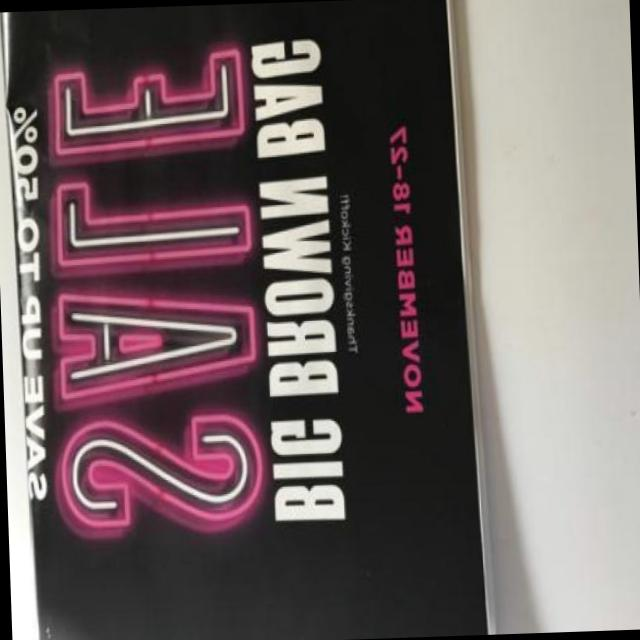cardboard paper: (1, 0, 483, 640)
